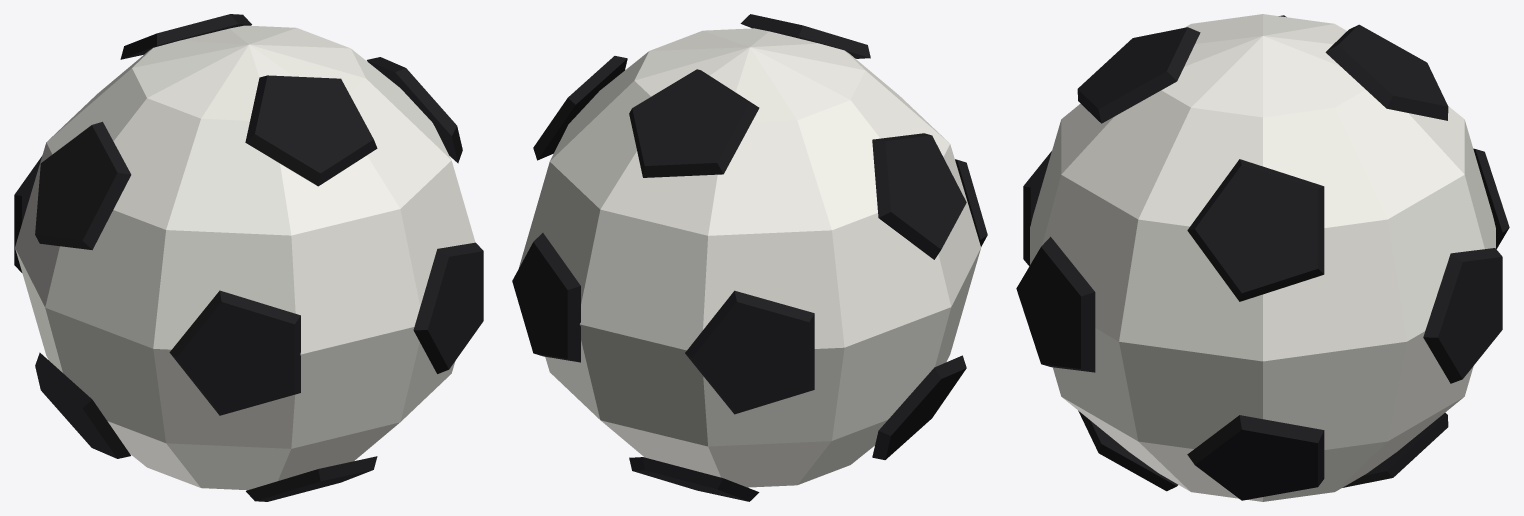
The model's file is GS_Soccerball_01.glb.
3 renders of one model, left to right at view 1: azimuth 30°, elevation 25°; view 2: azimuth 150°, elevation 25°; view 3: azimuth 270°, elevation 25°, orthographic. The views are drawn at different scales.
Parts seen in each view (by area): view 1: GS_Soccerball_01; view 2: GS_Soccerball_01; view 3: GS_Soccerball_01.
Part boxes in pixels (<box>): GS_Soccerball_01: <box>14,14,483,501</box>; GS_Soccerball_01: <box>512,14,987,501</box>; GS_Soccerball_01: <box>1016,14,1509,501</box>.
Size of the model in its own units: 0.22 by 0.22 by 0.2216.
Materials: 1 (1 with a texture image).
